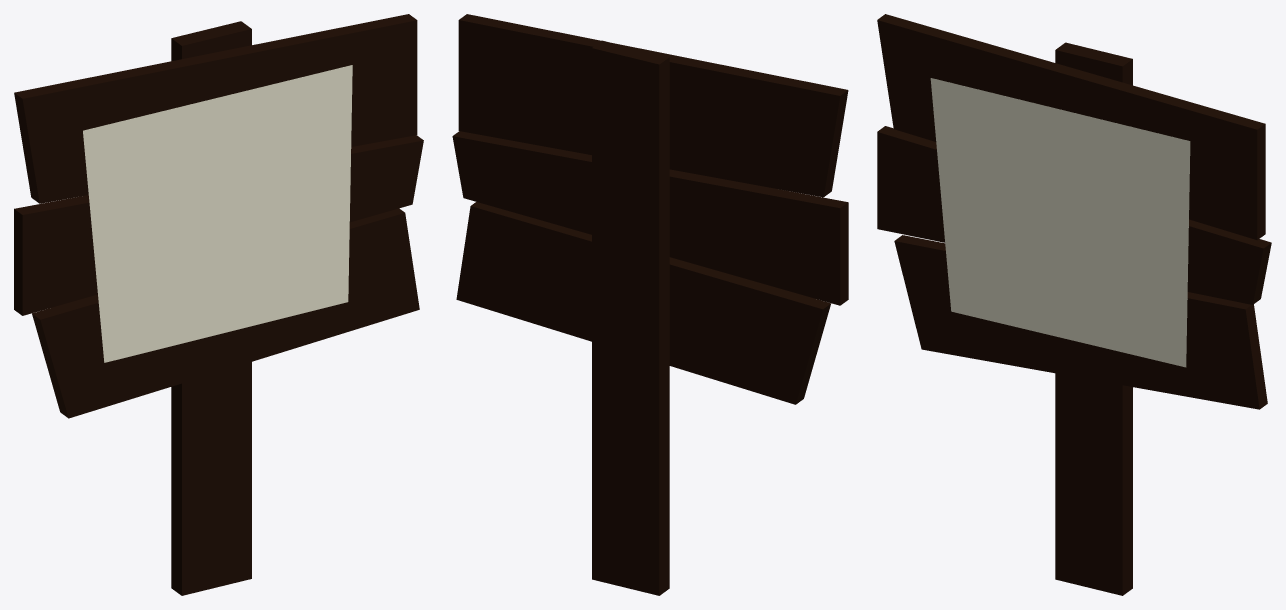
File: pancarte.FBX
The picture shows the model from 3 angles, left to right: view 1: azimuth 30°, elevation 25°; view 2: azimuth 150°, elevation 25°; view 3: azimuth 330°, elevation 25°; orthographic projection. The views are drawn at different scales.
Visible parts, largest first — view 1: Panneau; view 2: Panneau; view 3: Panneau.
Boxes of the visible parts, bbox=[...] form: Panneau: bbox=[14, 14, 423, 595]; Panneau: bbox=[452, 14, 848, 595]; Panneau: bbox=[877, 14, 1271, 595].
Bounding box in the file's own units: 39.76 × 52.06 × 4.44.
